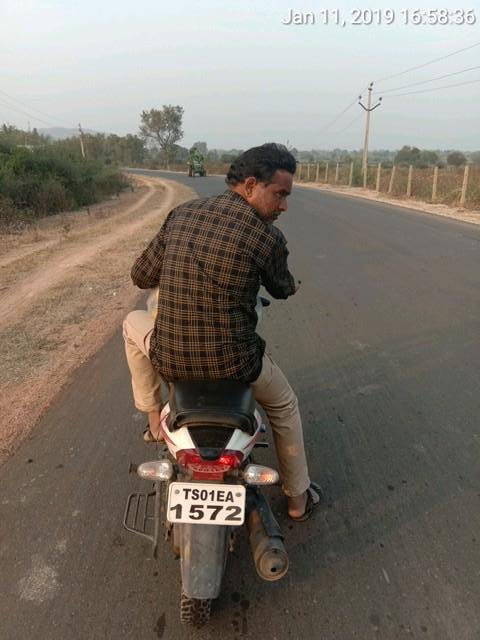plate: (165, 477, 251, 534)
